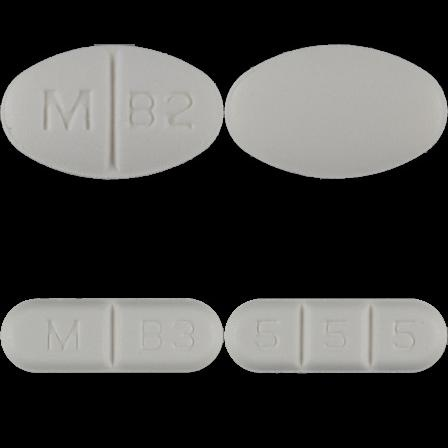0378-1150: (0, 0, 224, 224)
